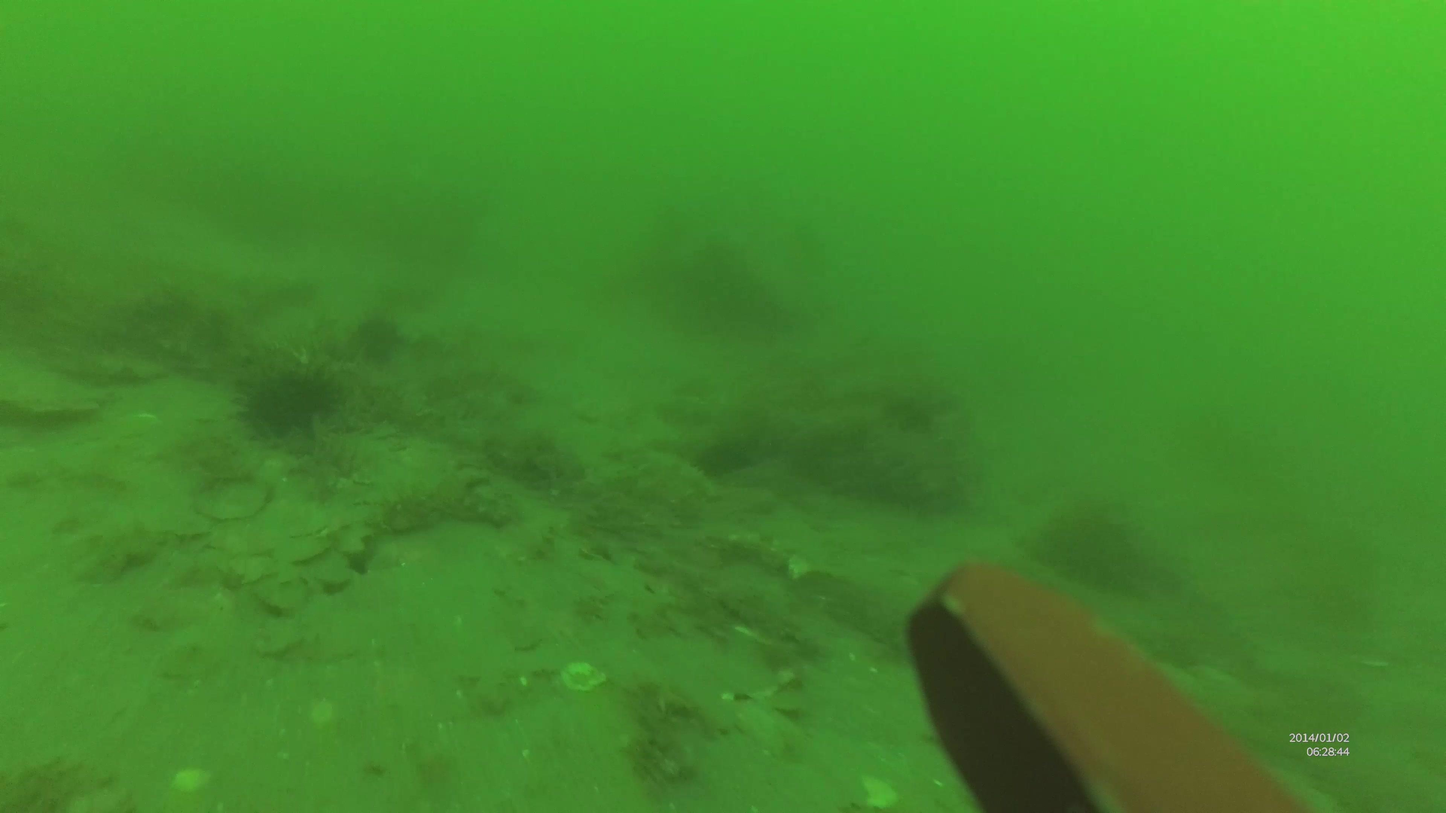starfish: (235, 365, 348, 446)
